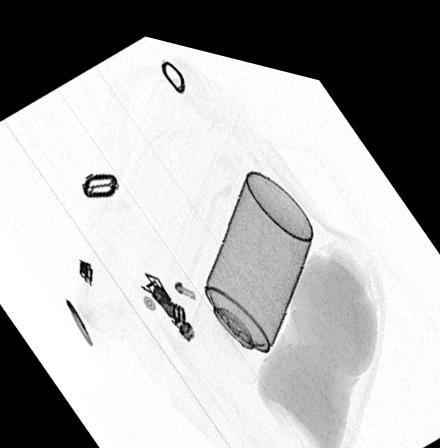Sprayer: (188, 158, 314, 375)
